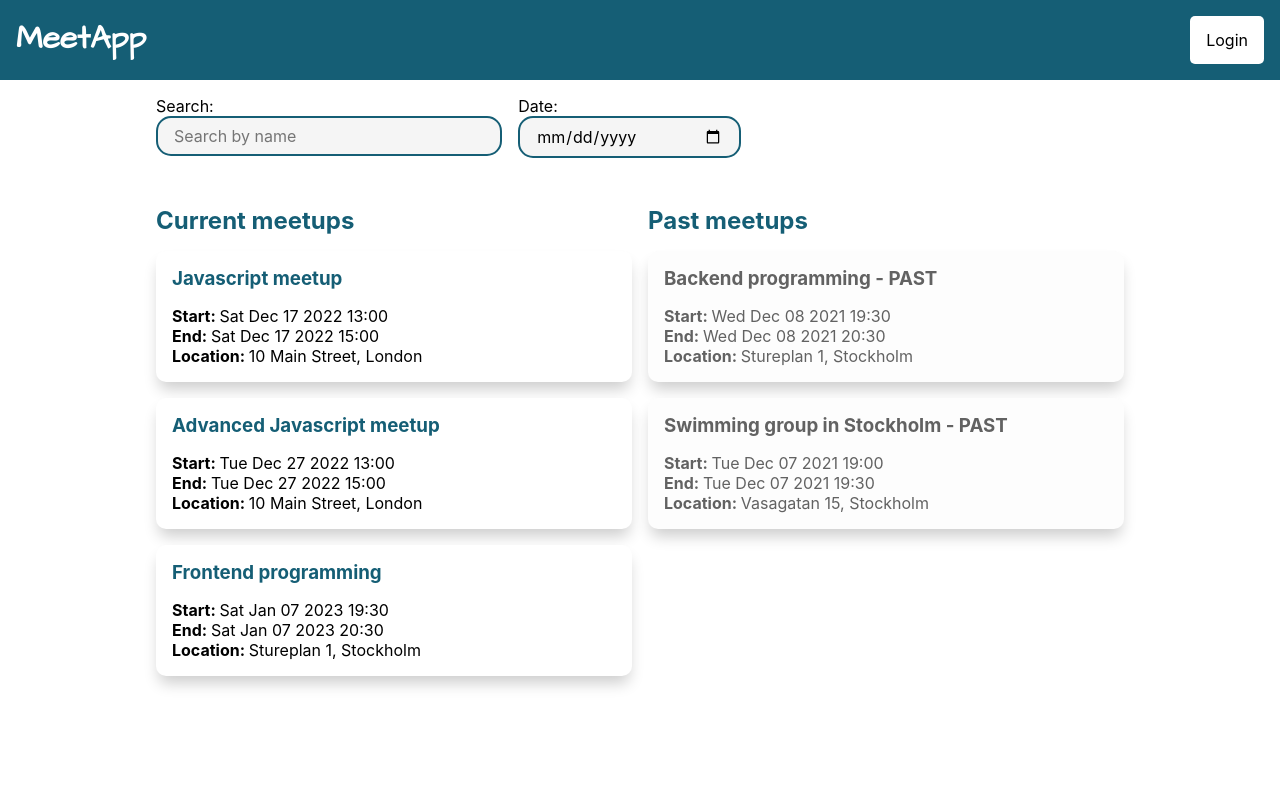
App integration tests - registering for events › renders a meetup is over message instead of attend button if meetup is past
Click the button "Login" at (1227, 40), box [1190,16,1264,64]
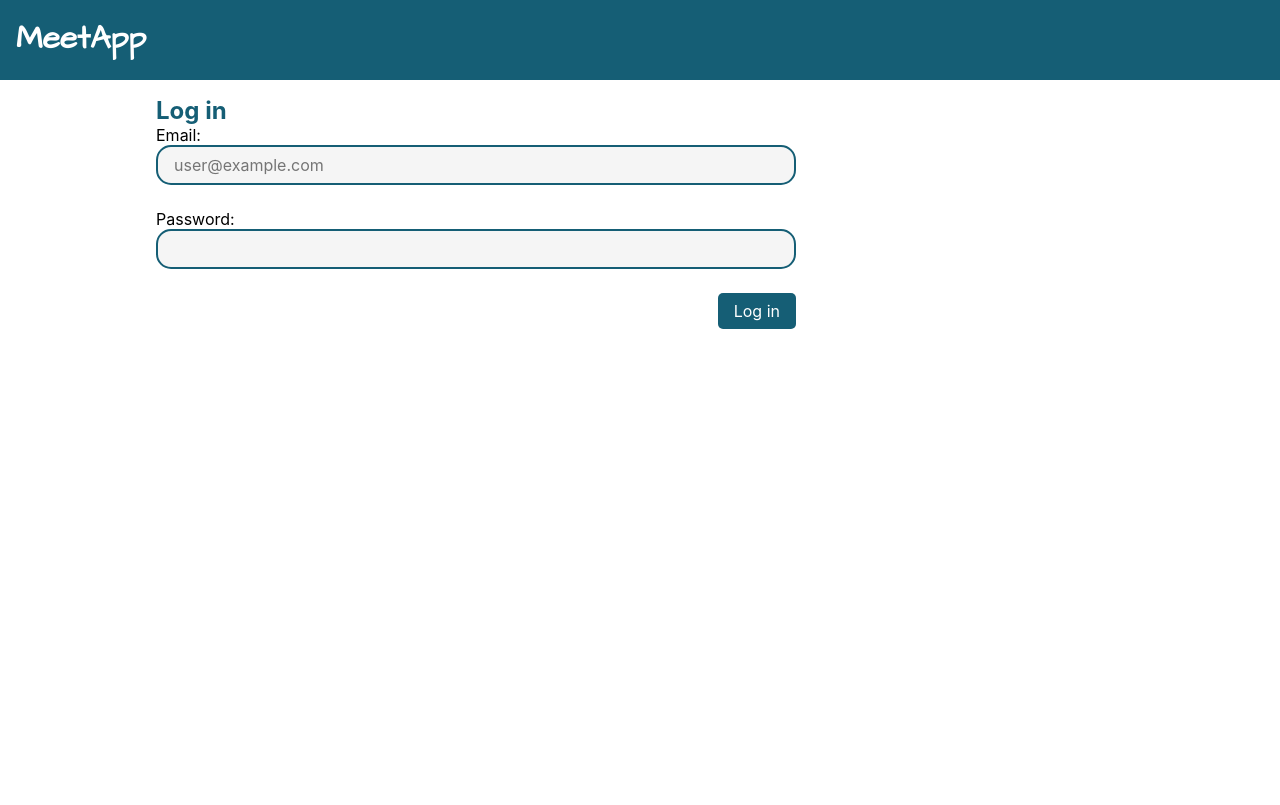
Type "hannah@gmail.com" into the field labelled "Email:" at (476, 165), box [156,145,796,185]
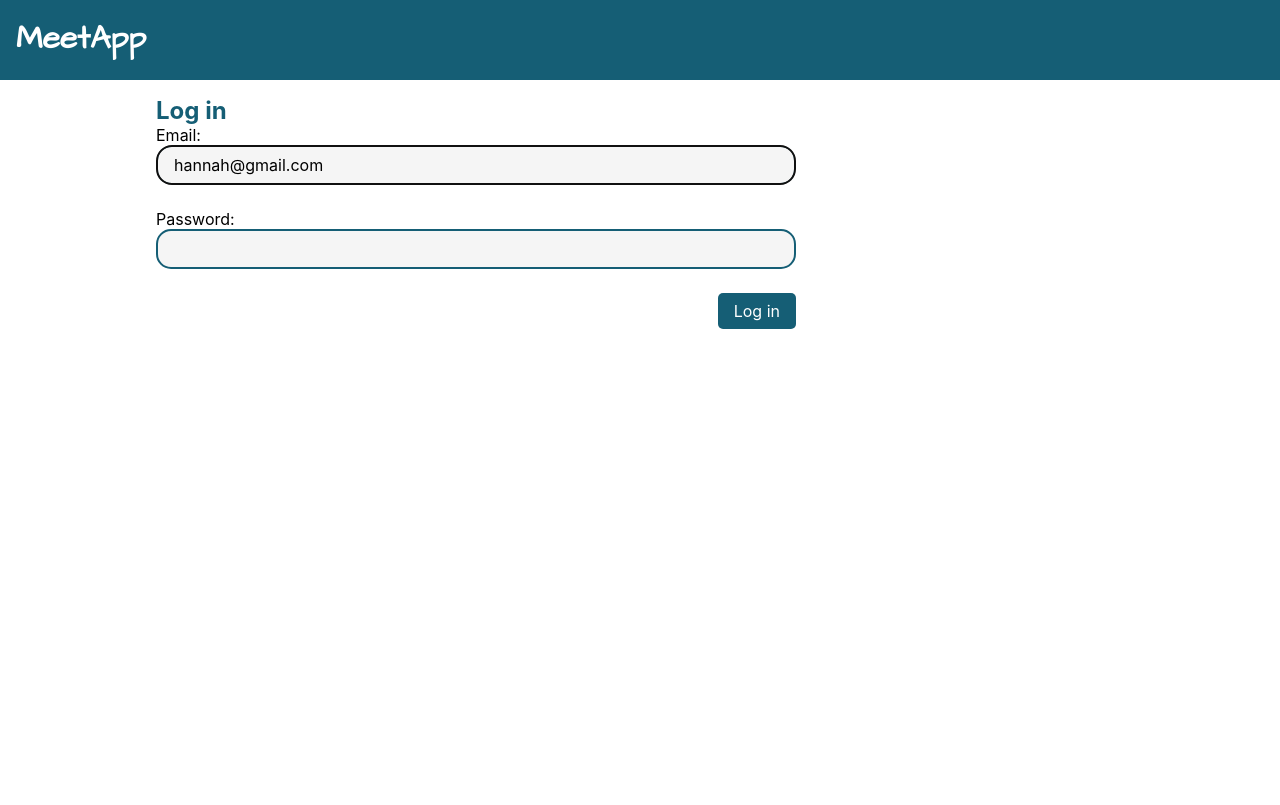
Type "hannahIsBest" into the password field labelled "Password:" at (476, 249), box [156,229,796,269]
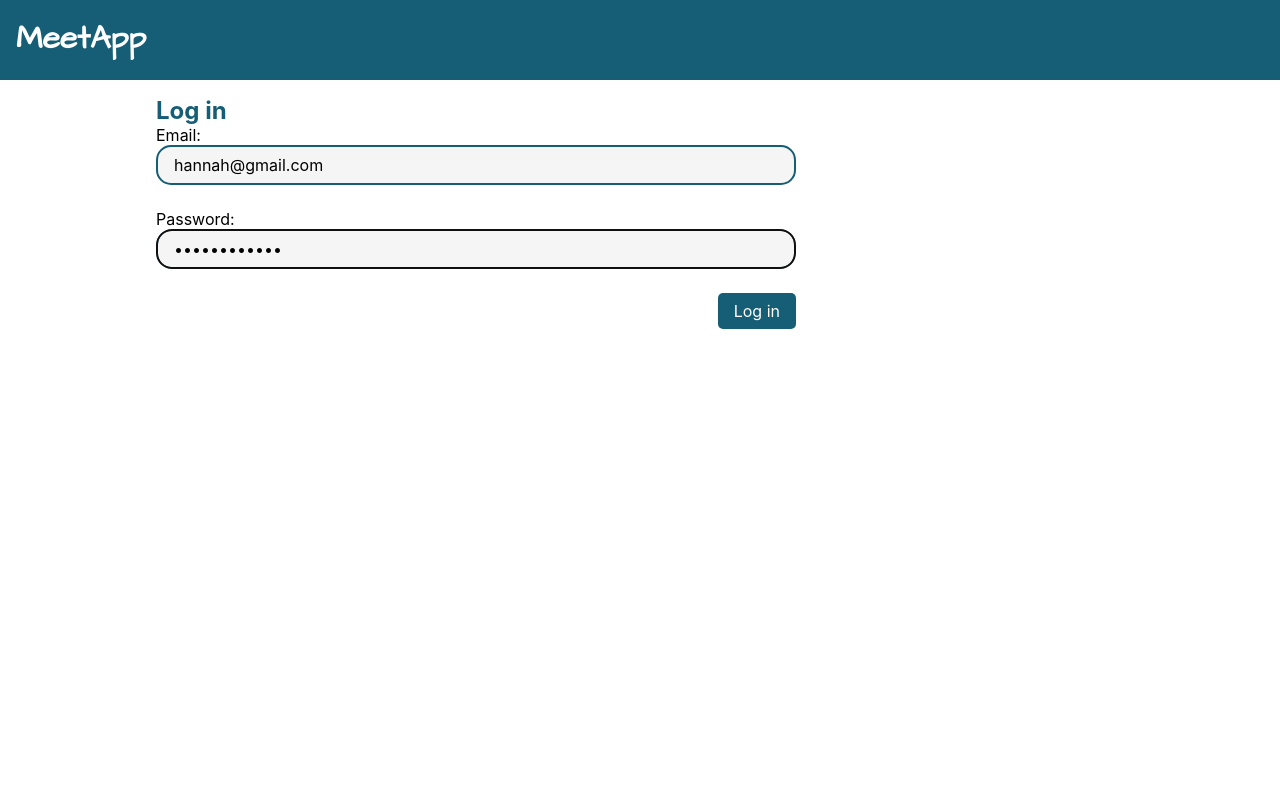
Click the button with test id "login-btn" at (757, 311), box [718,293,796,329]
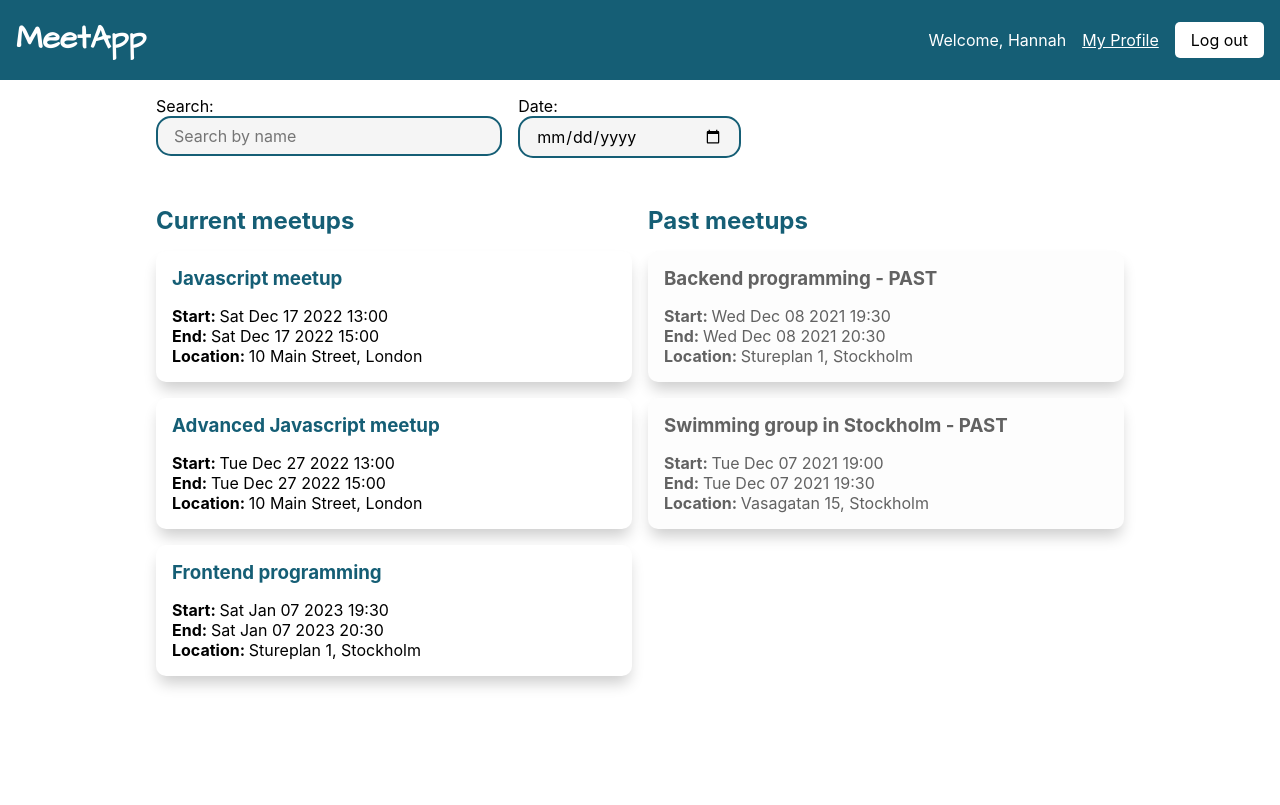
Click the link with test id "pastListItem" at (886, 316), box [648,251,1124,382]
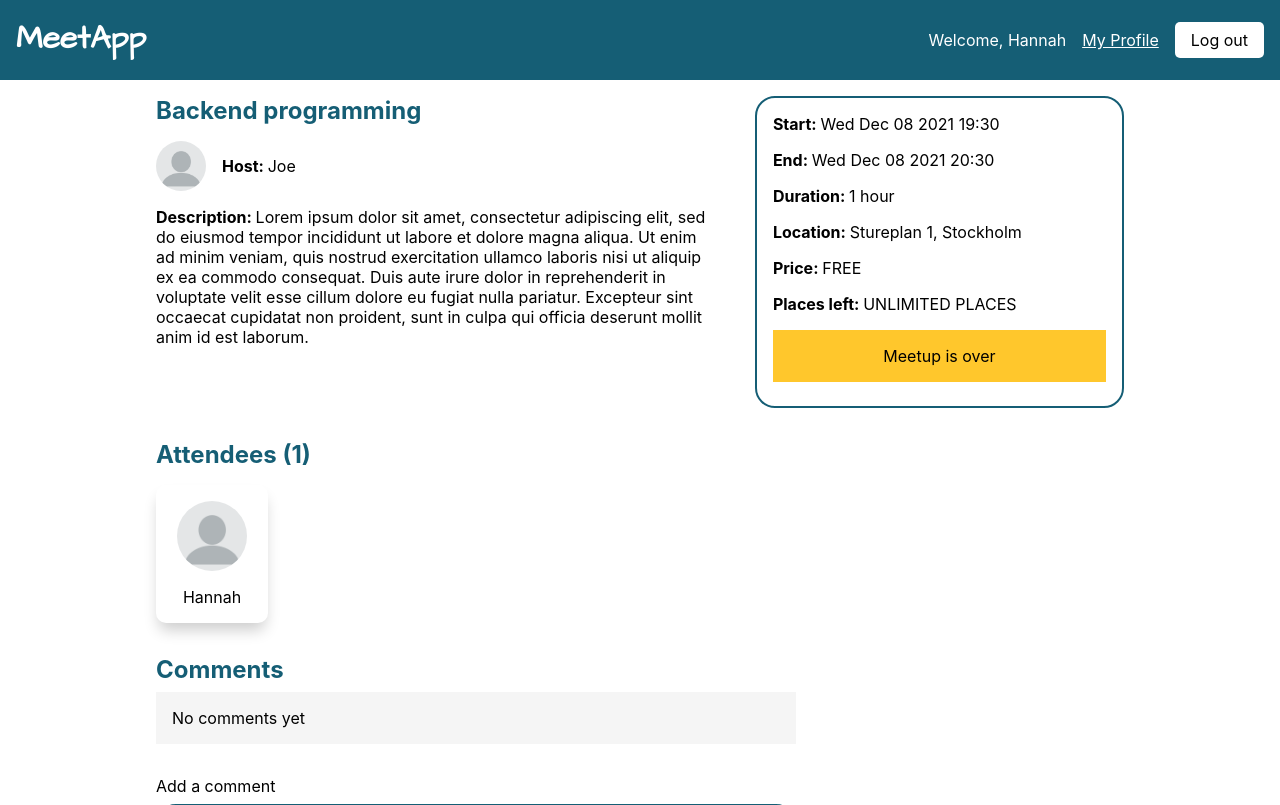
Check: the text "Meetup is over" is shown, box [773,330,1106,382]
